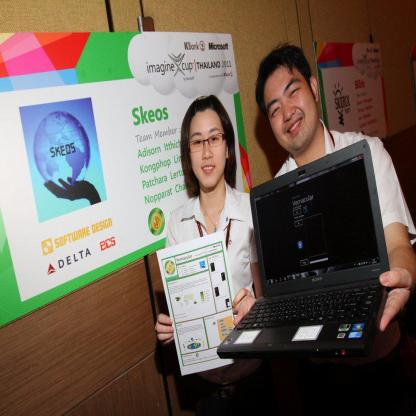board: (223, 143, 398, 372)
